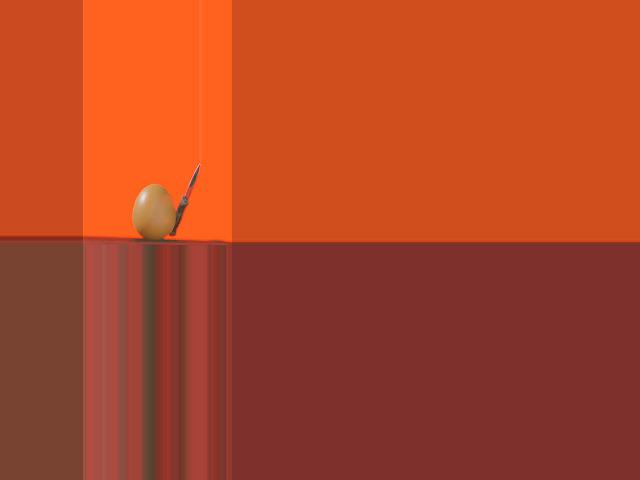egg: (133, 185, 175, 239)
